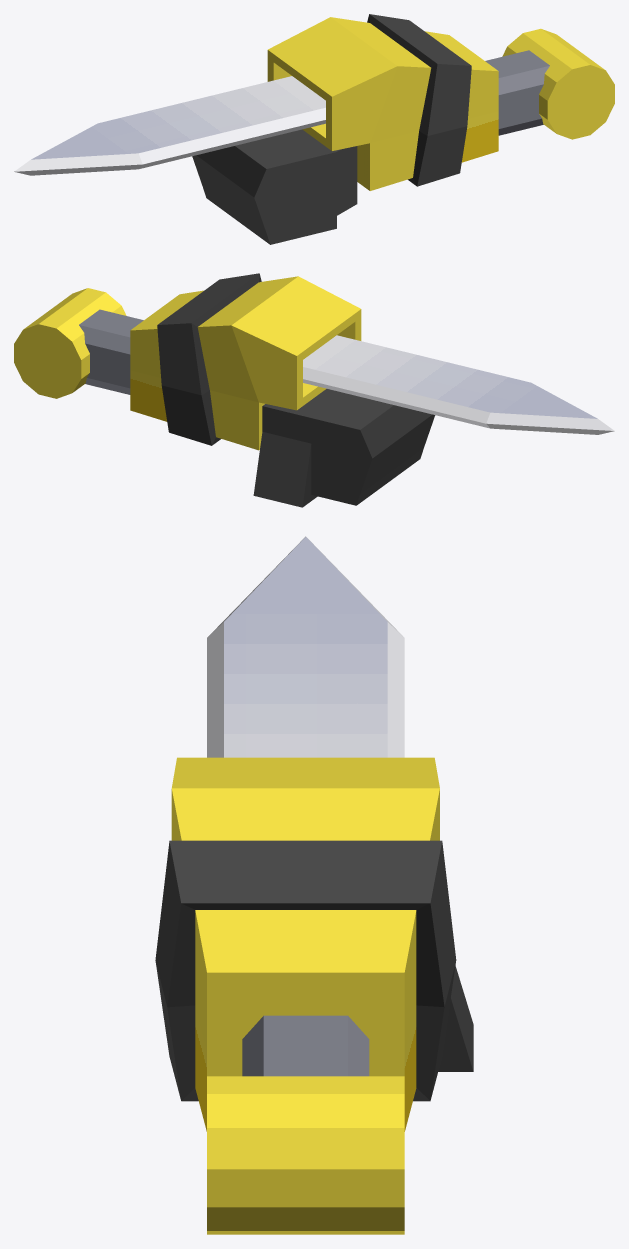
File: StingerLeftArm.obj
The picture shows the model from 3 angles, top to bottom: view 1: azimuth 30°, elevation 25°; view 2: azimuth 150°, elevation 25°; view 3: azimuth 270°, elevation 25°; orthographic projection. The views are drawn at different scales.
Parts seen in each view (by area): view 1: cuboid, Forearm, cylinder, Arm; view 2: cuboid, Forearm, cylinder, Arm; view 3: Forearm, cuboid, cylinder, Arm.
Part boxes in pixels (left/top/right/bottom): cuboid: left=14, top=76, right=357, bottom=244; Forearm: left=267, top=14, right=498, bottom=190; cylinder: left=502, top=28, right=614, bottom=139; Arm: left=485, top=50, right=549, bottom=135; cuboid: left=253, top=335, right=614, bottom=507; Forearm: left=130, top=273, right=361, bottom=450; cylinder: left=14, top=288, right=126, bottom=398; Arm: left=79, top=309, right=143, bottom=394; Forearm: left=155, top=757, right=456, bottom=1131; cuboid: left=207, top=536, right=473, bottom=1071; cylinder: left=207, top=1076, right=404, bottom=1234; Arm: left=242, top=1015, right=369, bottom=1076.
Bounding box in the file's own units: 1.18 × 0.3063 × 0.2816.
Materials: 1 (1 with a texture image).
